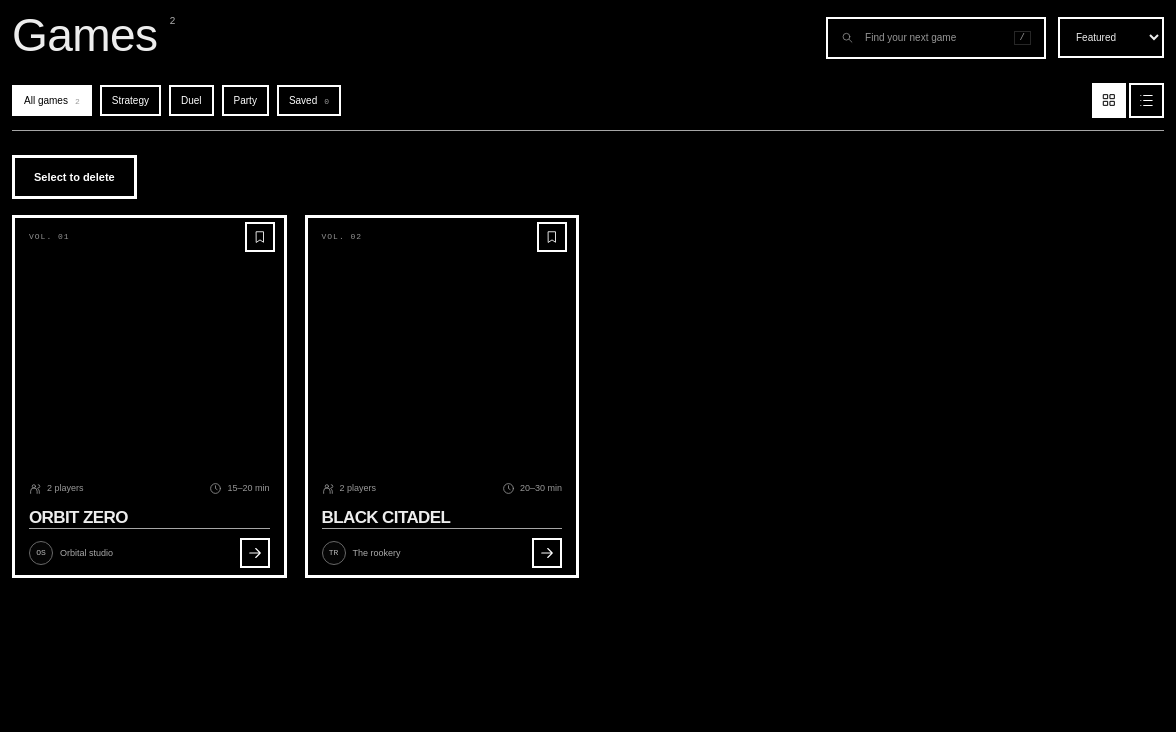
Test: library selection › selects only owned games and deletes exactly the selected IDs
Click the button "Select to delete" at [74, 177], box [12,155,137,199]
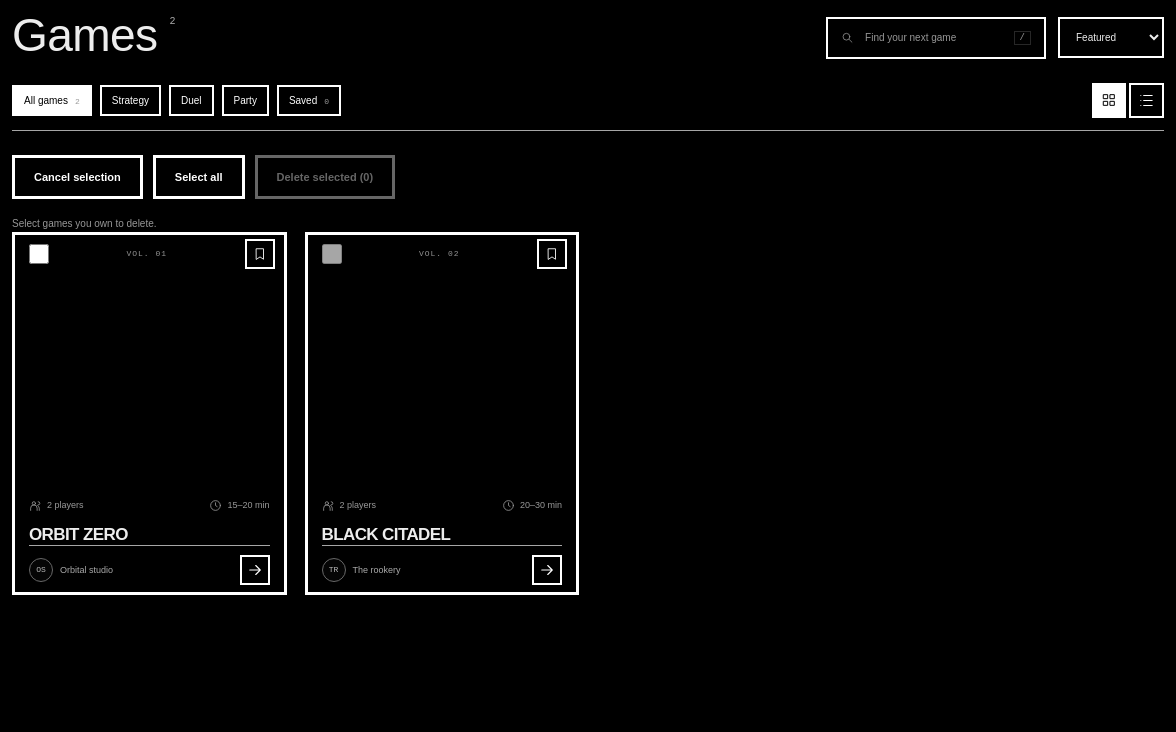
Click the button "Select all" at [199, 177], box [153,155,244,199]
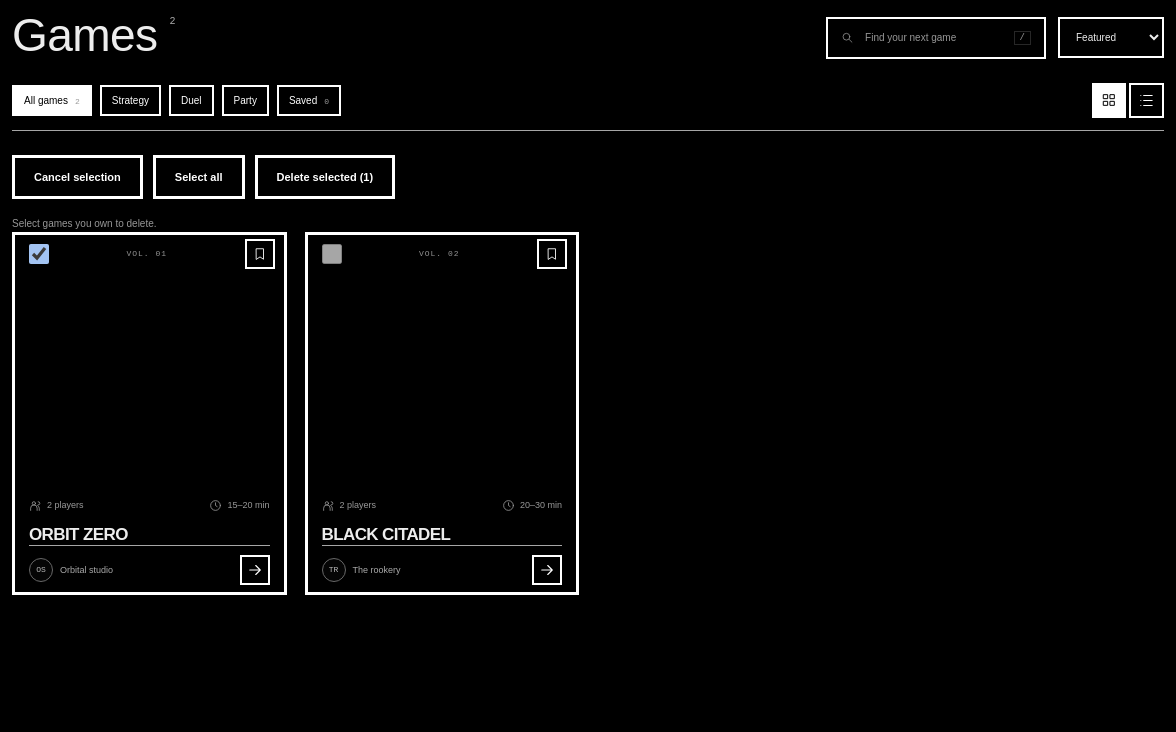
Type "no matching game" into the field named "Search games" at [933, 38], box [863,19,1004,57]
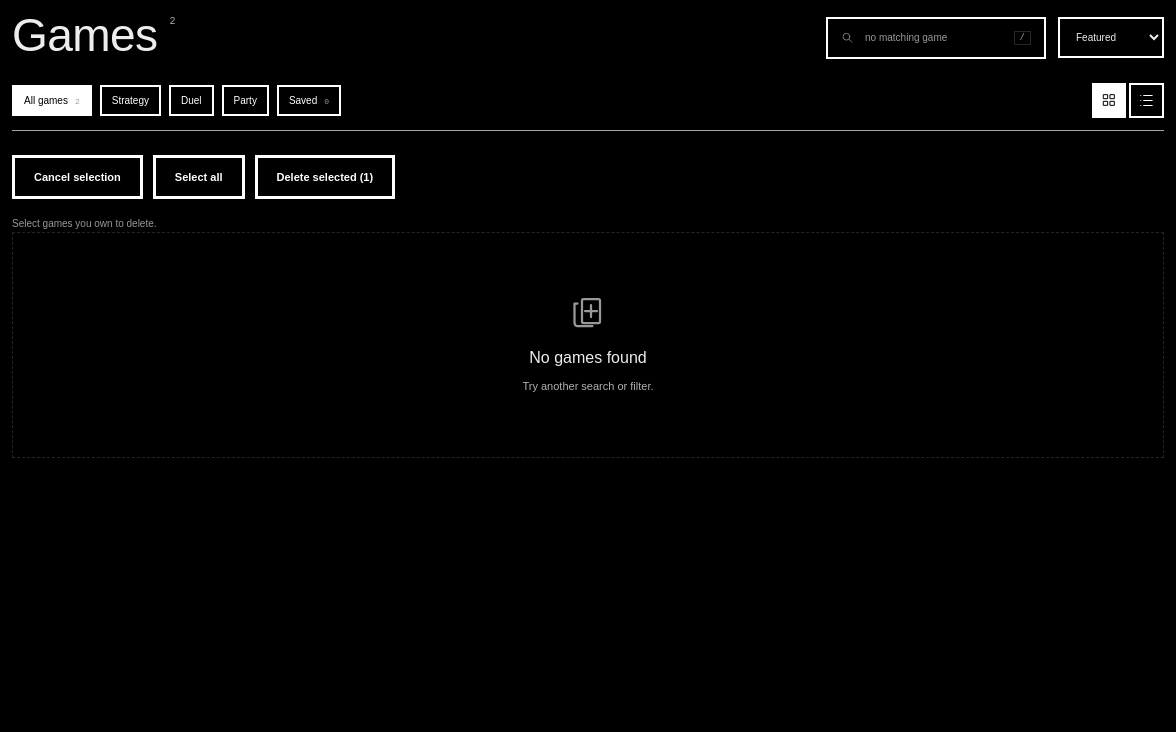
Expected: the button "Cancel selection" is enabled, [12,155,143,199]
Click the button "Delete selected (1)" at [325, 177], box [254,155,395,199]
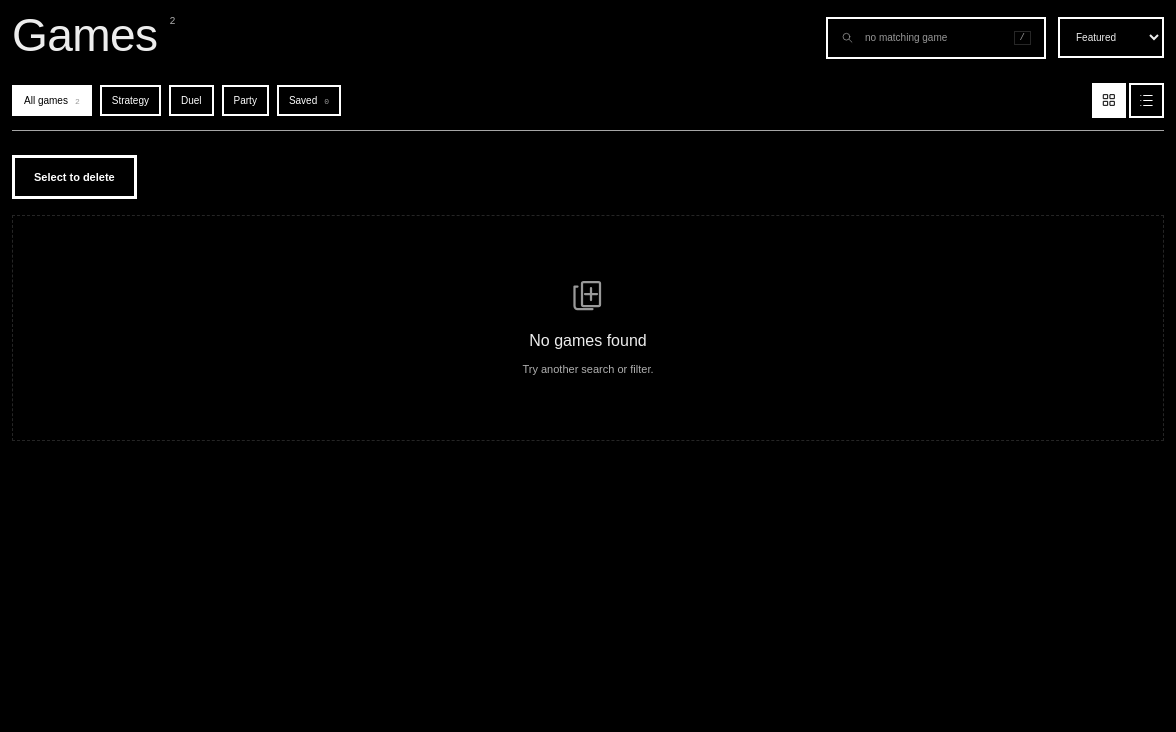
Expected: the button "Select to delete" is shown, [12,155,137,199]
